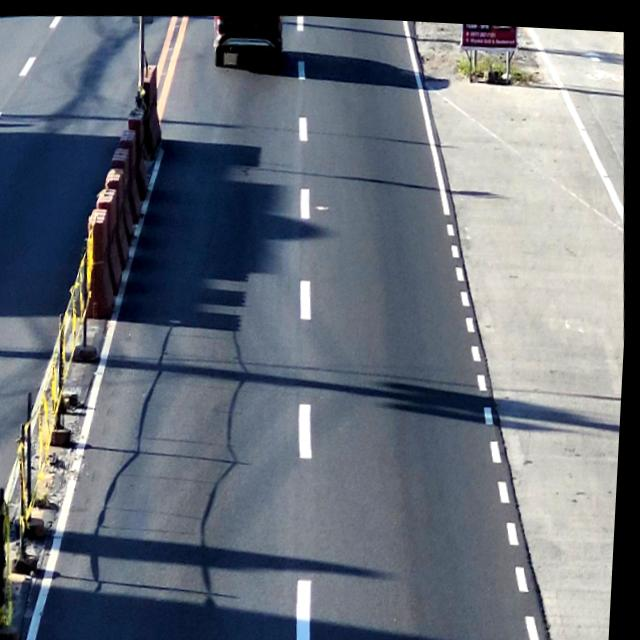Car: (213, 10, 287, 68)
